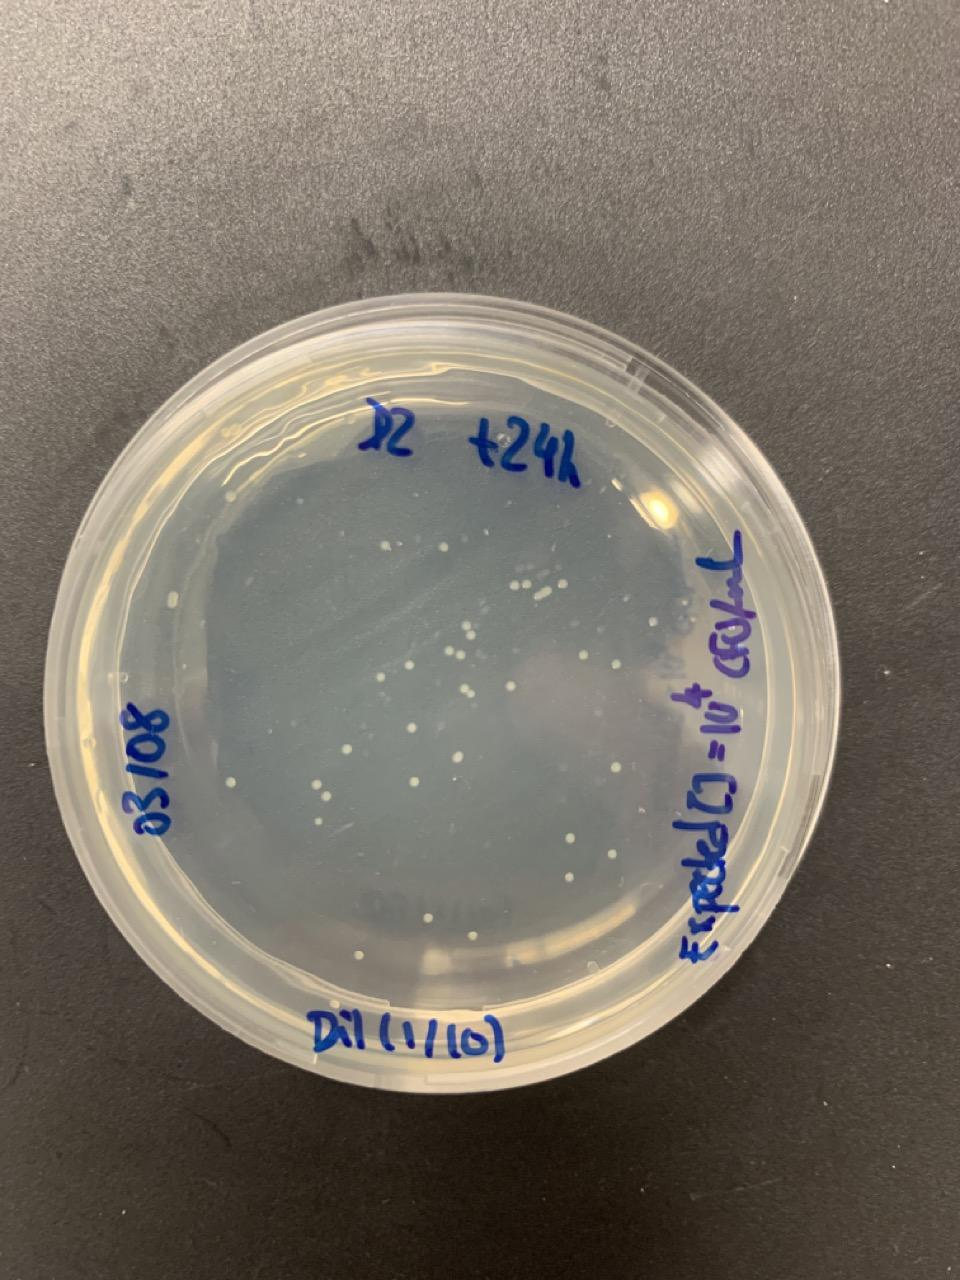colony: (532, 585, 554, 604), (436, 539, 452, 554), (166, 591, 179, 609), (451, 750, 466, 765), (609, 760, 623, 775), (407, 774, 422, 789), (466, 928, 480, 942), (378, 538, 392, 552), (564, 830, 577, 846), (422, 911, 435, 925), (224, 489, 237, 503), (563, 871, 576, 884), (606, 848, 619, 861), (320, 790, 333, 803), (405, 721, 418, 734), (504, 679, 517, 692), (557, 578, 570, 591), (311, 777, 323, 791), (353, 949, 366, 962), (341, 743, 353, 756), (577, 647, 589, 660), (646, 616, 659, 628), (455, 649, 467, 662), (402, 659, 415, 671), (225, 776, 237, 789), (610, 658, 622, 670), (620, 593, 632, 605), (444, 643, 455, 656), (509, 580, 520, 592), (466, 629, 477, 641), (374, 671, 386, 682), (313, 815, 324, 826), (522, 578, 532, 590), (462, 619, 472, 631), (330, 999, 340, 1010), (459, 683, 469, 693), (466, 689, 476, 699), (682, 597, 691, 607), (690, 615, 700, 623)
